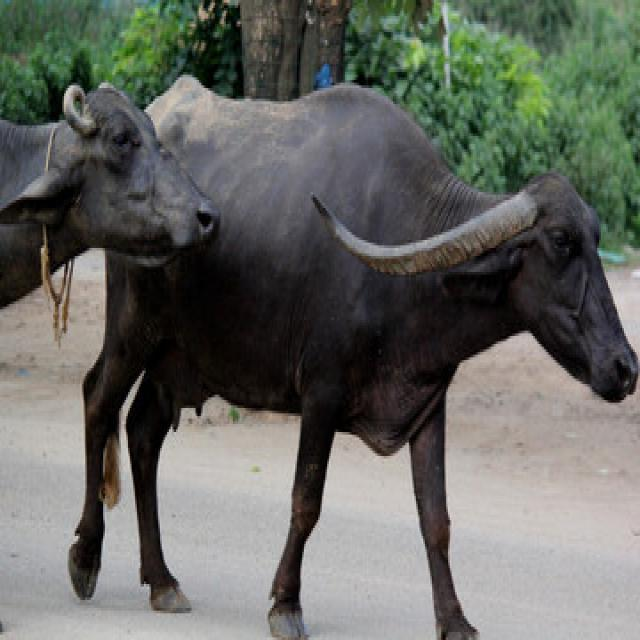Buffalo: (229, 80, 635, 640), (0, 85, 226, 290)
